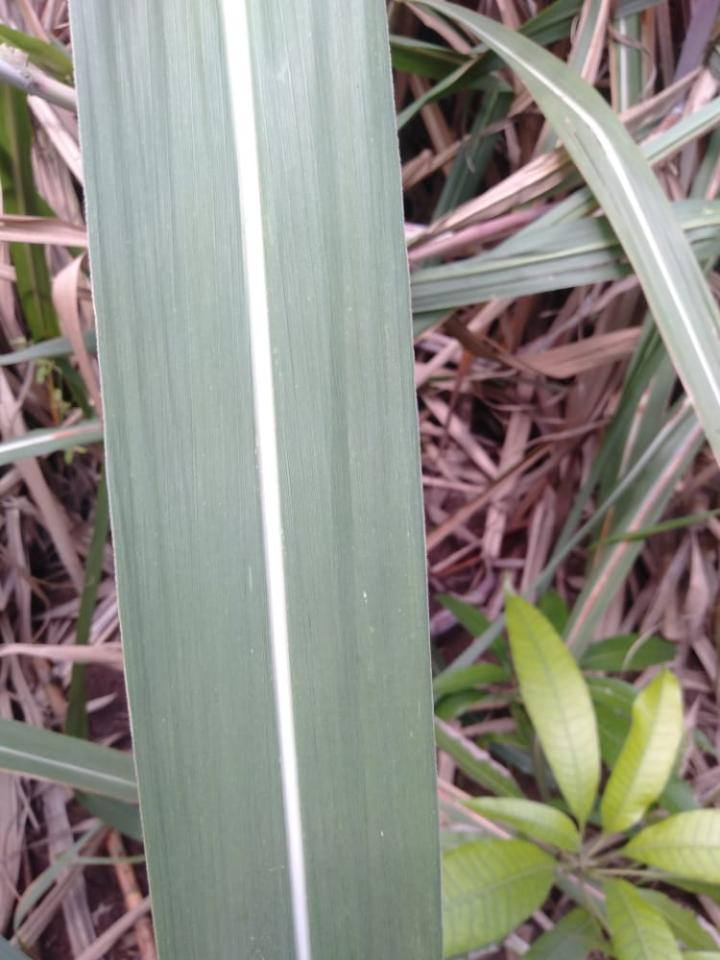Healthy: (70, 0, 443, 959)
